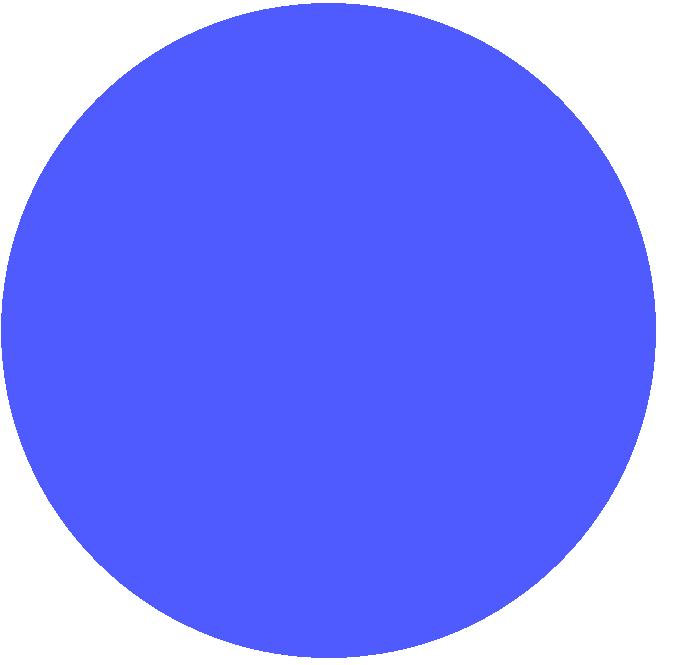blue_circle: (0, 0, 664, 665)
